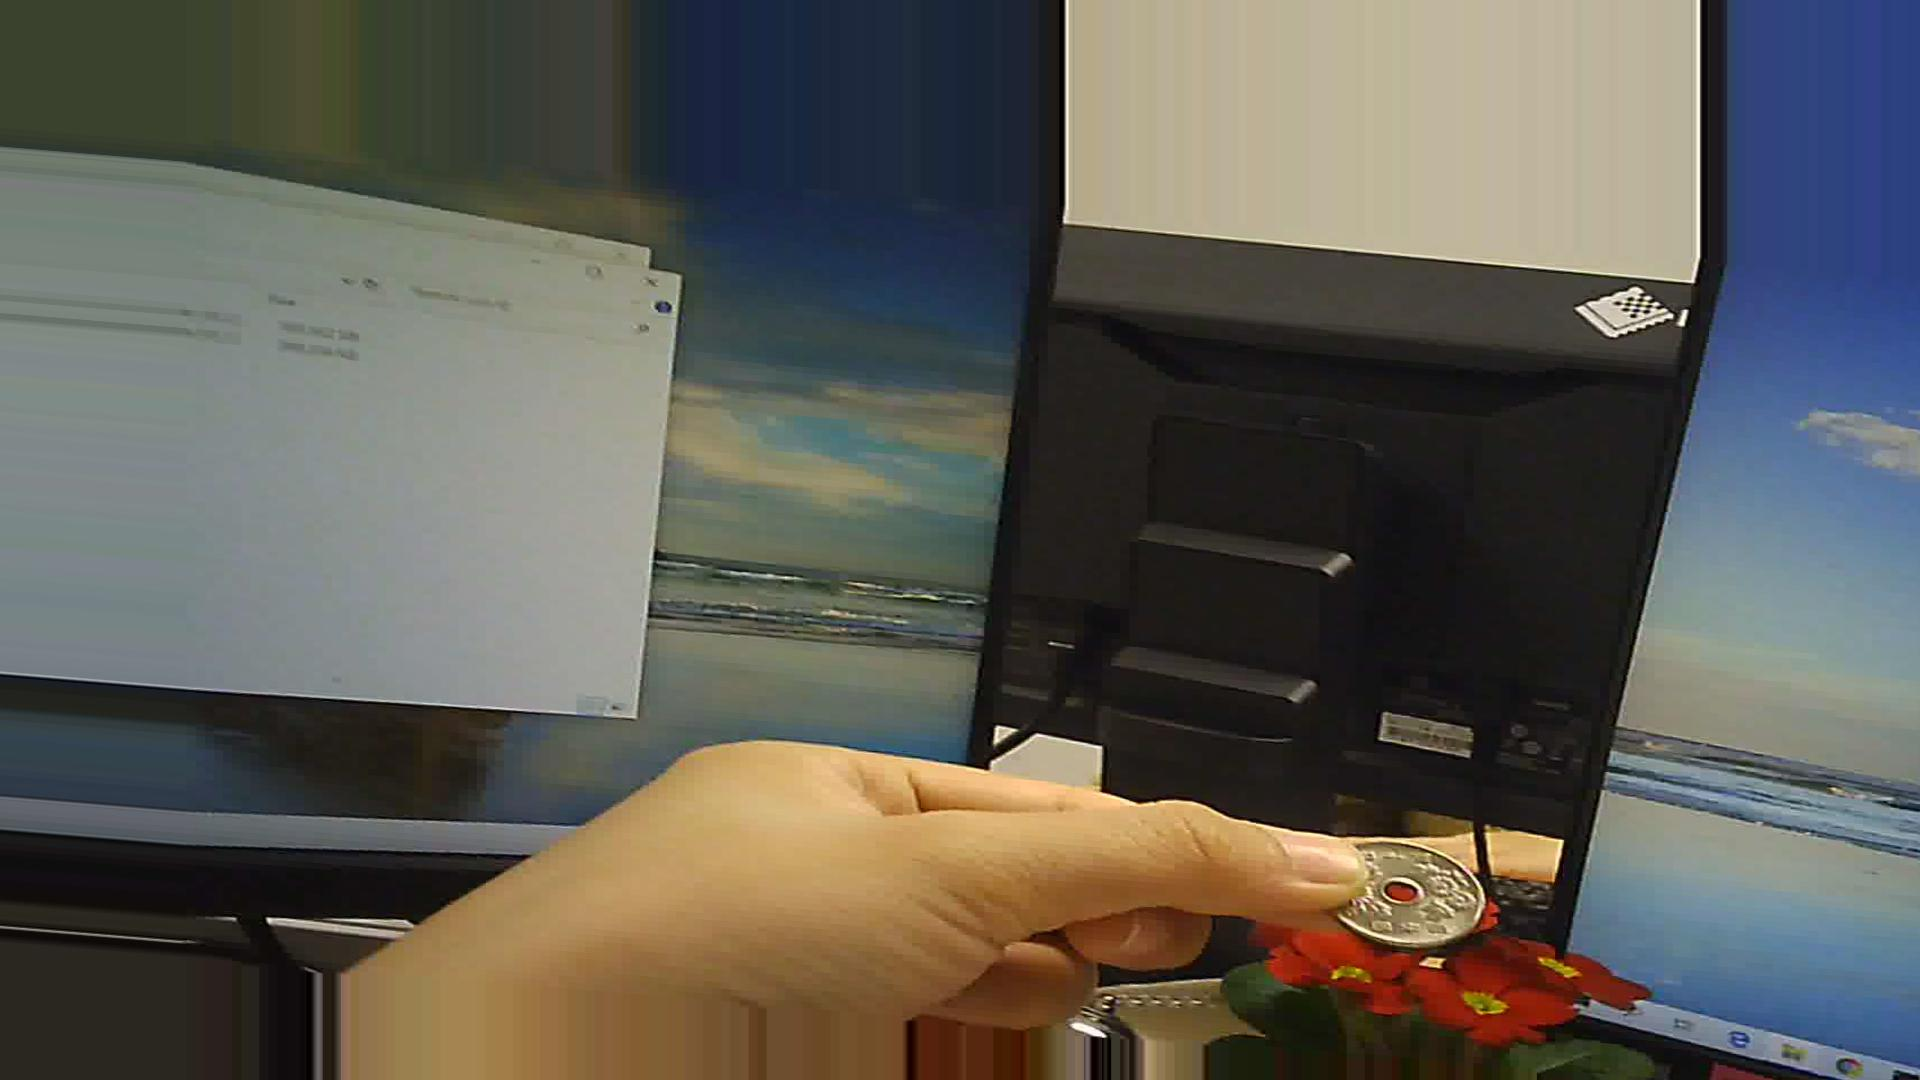50 Yen: (1327, 832, 1486, 940)
